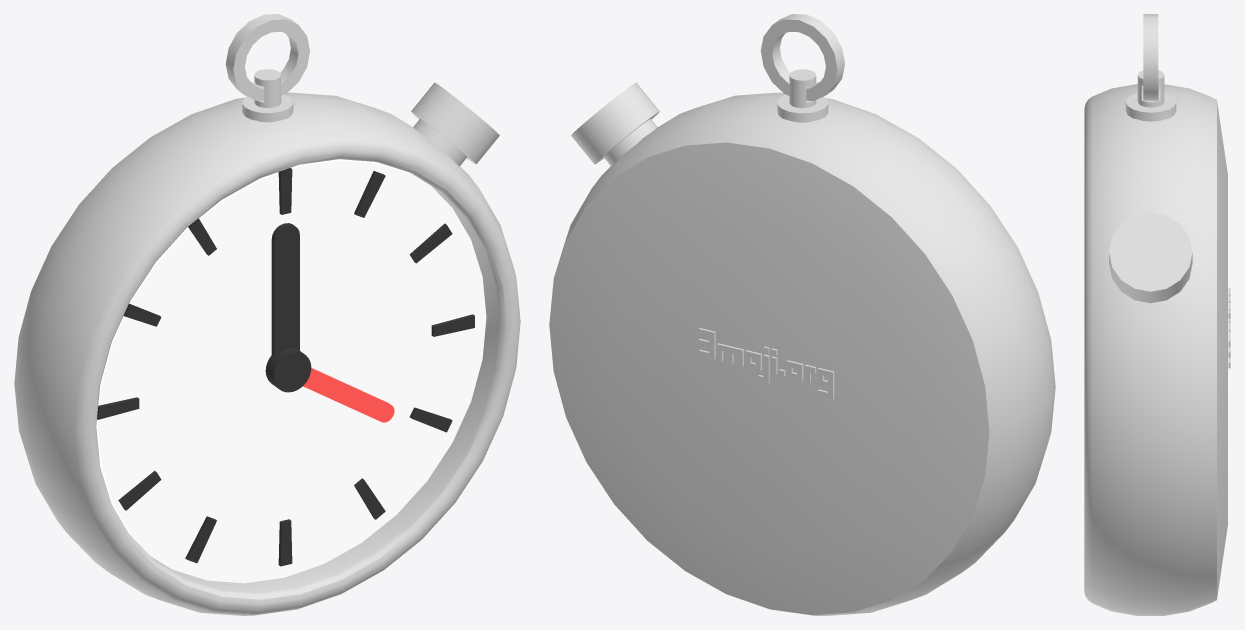
File: stopwatch.glb
The picture shows the model from 3 angles, left to right: view 1: azimuth 30°, elevation 25°; view 2: azimuth 150°, elevation 25°; view 3: azimuth 270°, elevation 25°; orthographic projection.
Parts seen in each view (by area): view 1: Circle.2419; view 2: Circle.2419; view 3: Circle.2419.
Part boxes in pixels (left/top/right/bottom): Circle.2419: left=14, top=14, right=520, bottom=615; Circle.2419: left=549, top=14, right=1055, bottom=615; Circle.2419: left=1084, top=14, right=1230, bottom=615.
Bounding box in the file's own units: 1.98 × 2.36 × 0.5454.
Materials: 2 (1 with a texture image).
